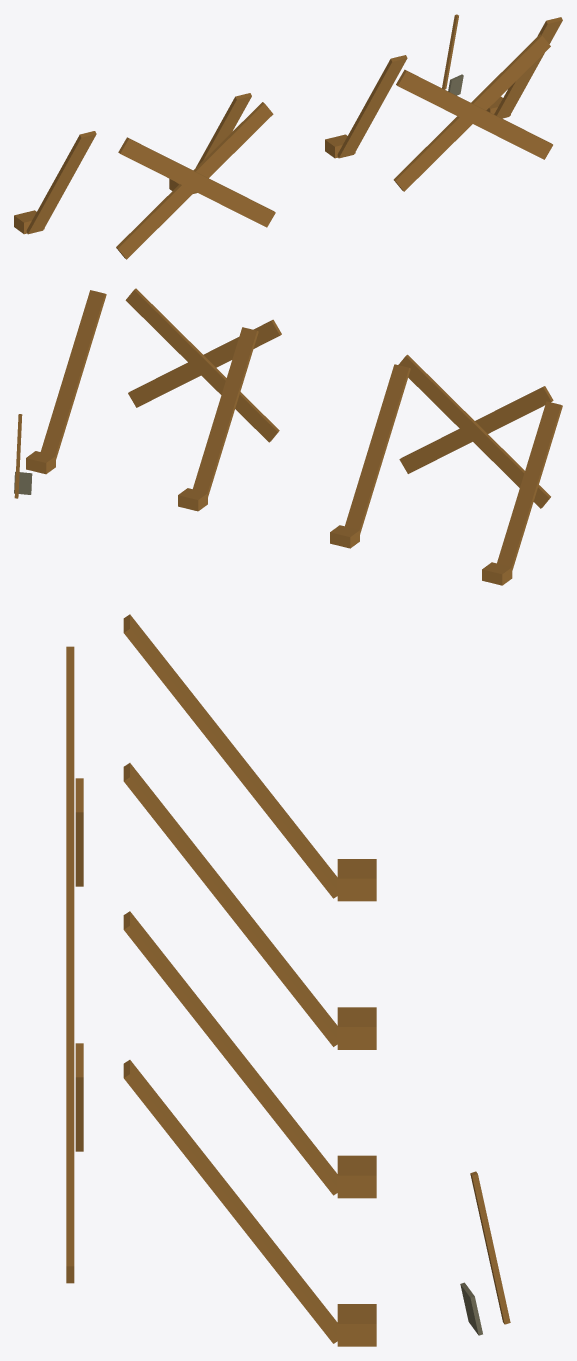
The model's file is SM_ObraPuertaApuntalada_v2_8m_LOD0.fbx.
3 views of the same model, one above another, from view 1: azimuth 30°, elevation 25°; view 2: azimuth 150°, elevation 25°; view 3: azimuth 270°, elevation 25° (orthographic). The views are drawn at different scales.
Visible parts, largest first — view 1: SM_obra_curso_v34_LOD0; view 2: SM_obra_curso_v34_LOD0; view 3: SM_obra_curso_v34_LOD0.
Part boxes in pixels (x1,y1,x2,y2): SM_obra_curso_v34_LOD0: (14, 14, 562, 259); SM_obra_curso_v34_LOD0: (14, 288, 562, 585); SM_obra_curso_v34_LOD0: (66, 614, 510, 1346).
Size of the model in its own units: 7.02 by 1.92 by 2.83.
